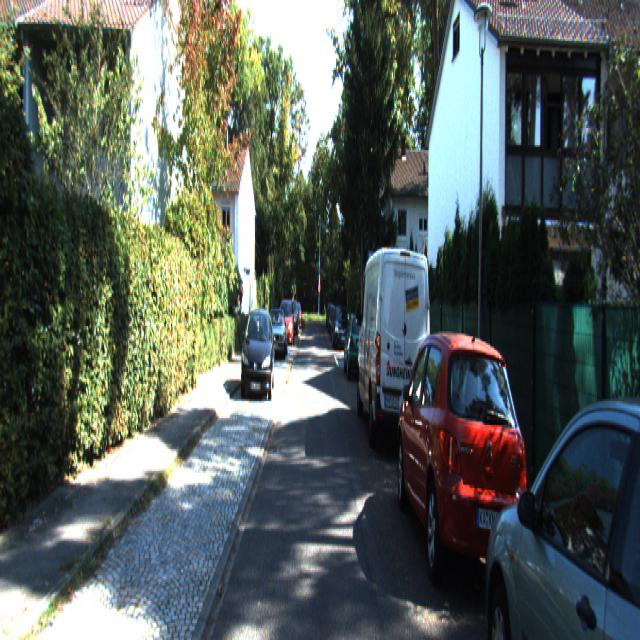Car: (480, 357, 639, 638), (393, 318, 536, 619), (356, 239, 431, 466), (240, 302, 274, 403), (344, 310, 373, 381), (266, 304, 287, 356), (332, 303, 350, 349), (278, 298, 293, 346)
